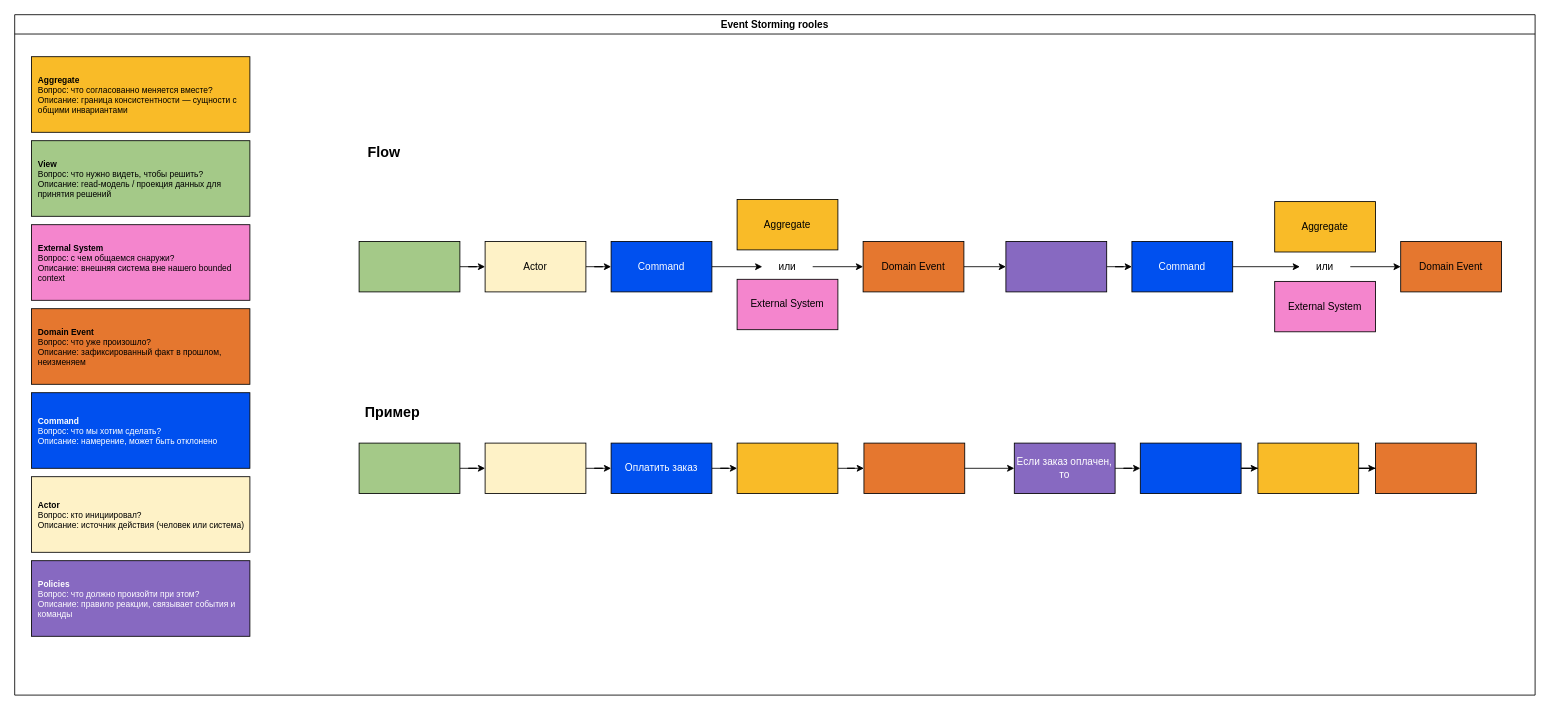
Some shapes in this 1550 by 710 pixel diagram are drawn without their labels. The shapes that lost their labels are listed below. From the top down, each one's centre as x and y in pixels, then its label:
At point 409,266: "View".
At point 1056,266: "Policy".
At point 409,468: "Меню".
At point 535,468: "Покупатель".
At point 787,468: "Заказ".
At point 914,468: "Заказ оплачен".
At point 1190,468: "Выбить чек".
At point 1308,468: "Чек".
At point 1425,468: "Чек выбит".
